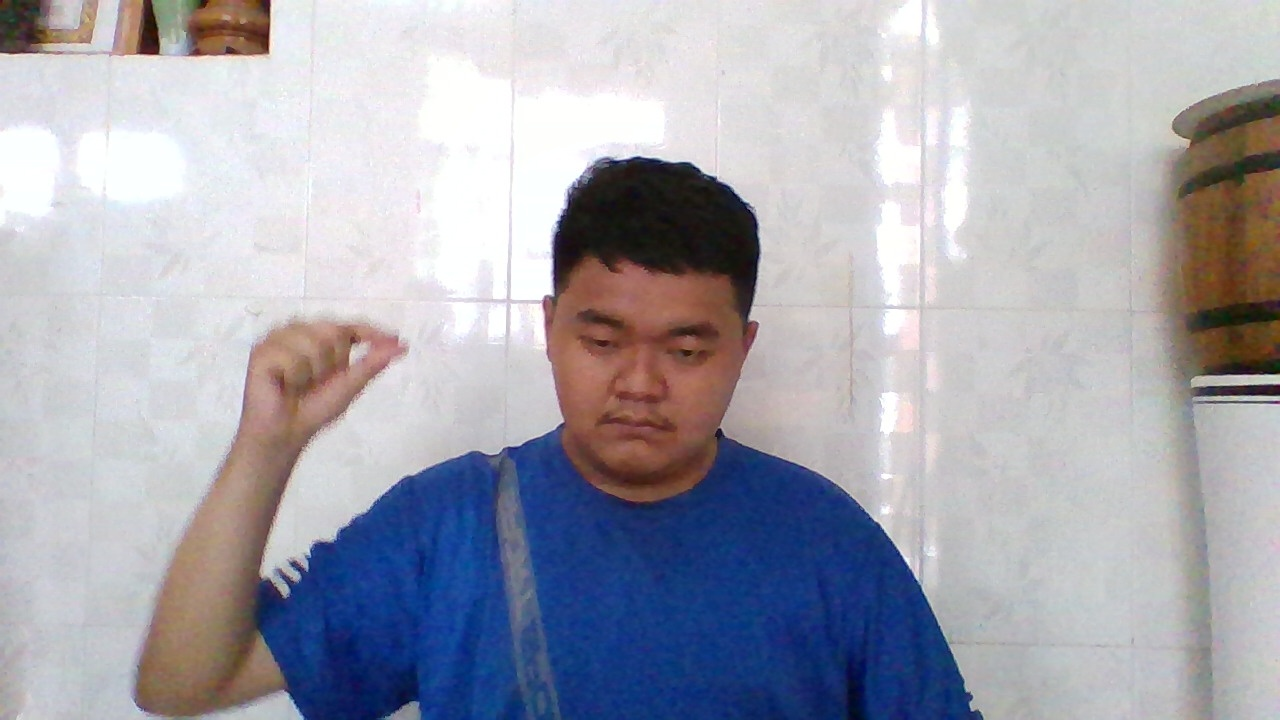S: (243, 311, 412, 449)
